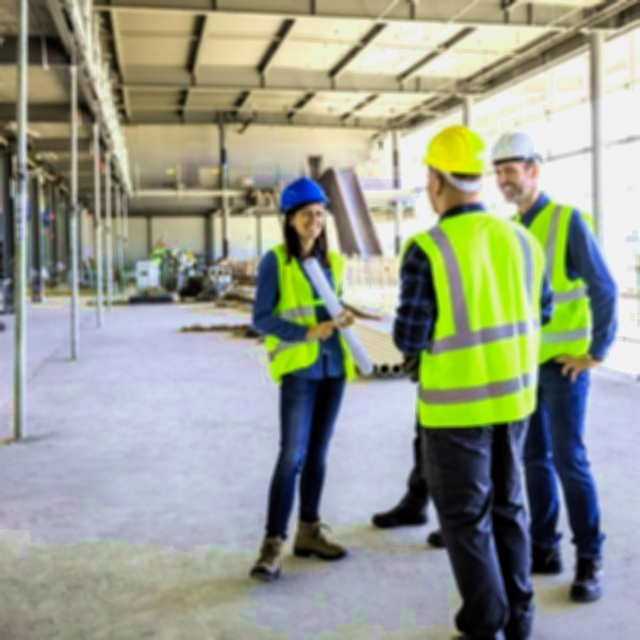Con_Casco: (419, 123, 489, 209), (492, 129, 547, 207), (278, 176, 330, 245)
Con_Chaleco: (413, 210, 546, 426), (512, 204, 602, 368), (266, 243, 363, 380)
